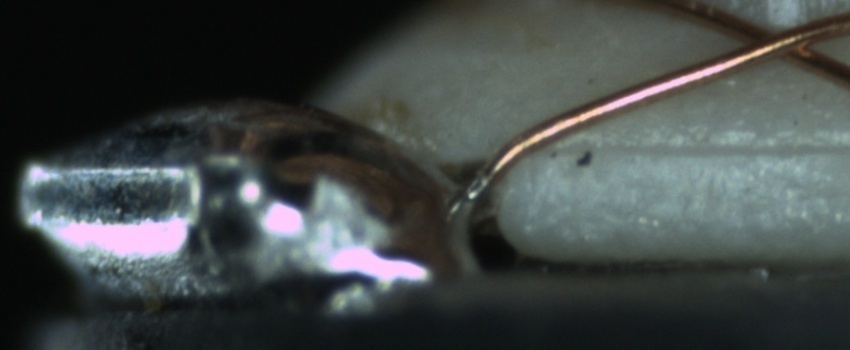CL: (723, 12, 831, 71)
DL: (560, 114, 849, 180)
TS: (456, 169, 490, 211)
